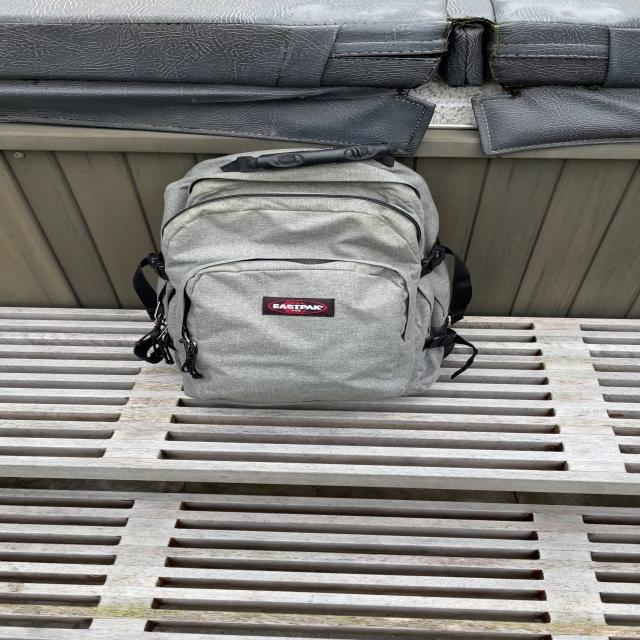backpack: (137, 143, 484, 397)
